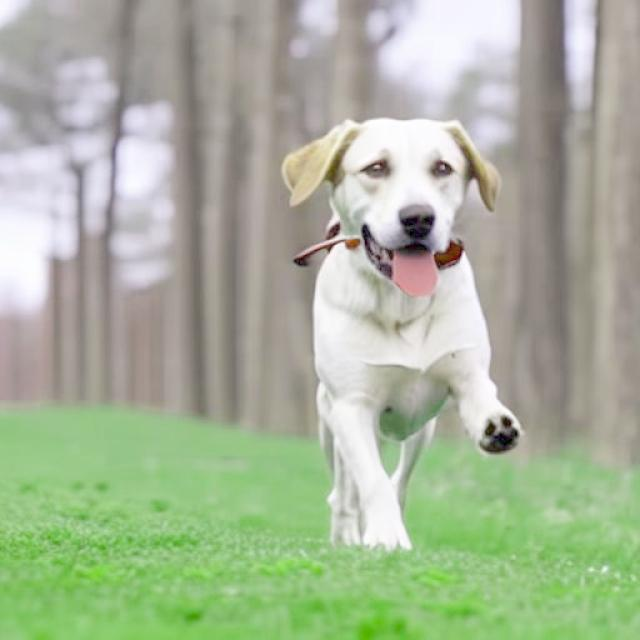Dog: (282, 119, 521, 554)
